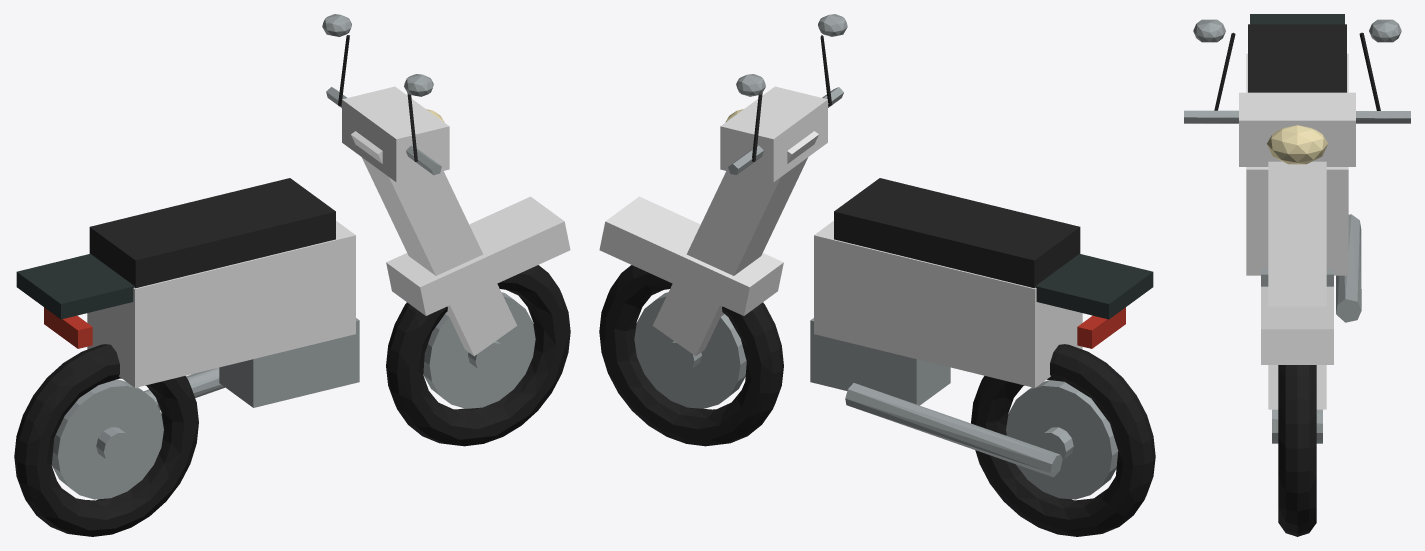
The model's file is xe_may_son.glb.
3 renders of one model, left to right at view 1: azimuth 30°, elevation 25°; view 2: azimuth 150°, elevation 25°; view 3: azimuth 270°, elevation 25°, orthographic. The views are drawn at different scales.
Visible parts, largest first — view 1: xe_may_son; view 2: xe_may_son; view 3: xe_may_son.
Part boxes in pixels (x1,y1,x2,y2): xe_may_son: (14,14,570,536); xe_may_son: (599,14,1155,536); xe_may_son: (1184,14,1410,536).
Size of the model in its own units: 1.87 by 1.37 by 0.62.
